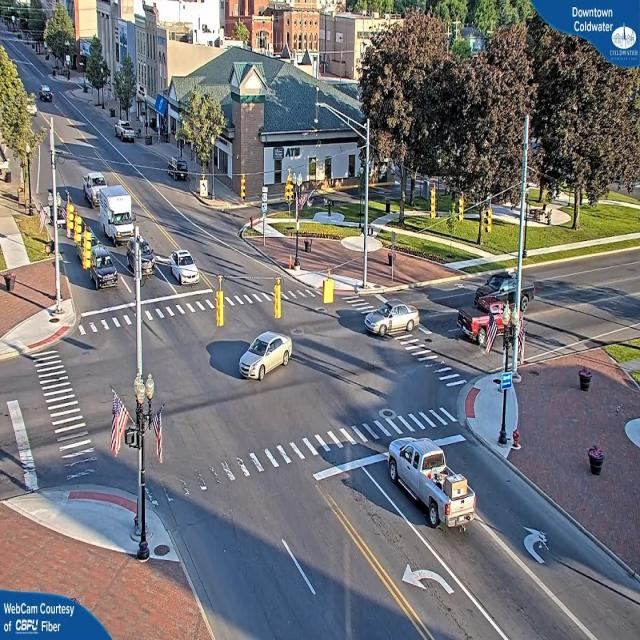car: (385, 439, 476, 537), (241, 329, 291, 381), (467, 299, 522, 344), (476, 273, 540, 311), (361, 300, 417, 337), (124, 236, 158, 278), (91, 244, 118, 292), (166, 251, 200, 287), (166, 157, 188, 180), (116, 123, 136, 143), (41, 88, 54, 102)
truck: (95, 180, 138, 245)
